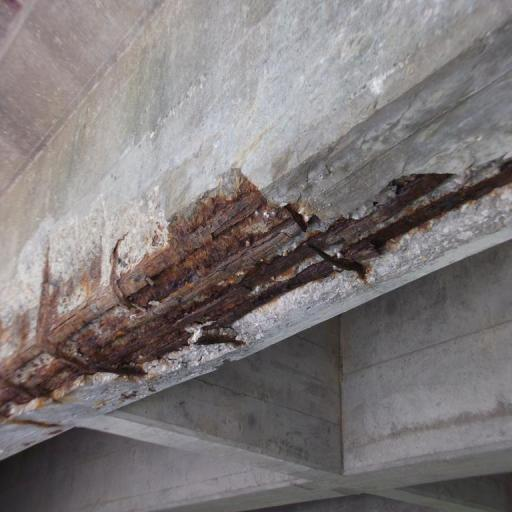spalling: (4, 136, 503, 433)
